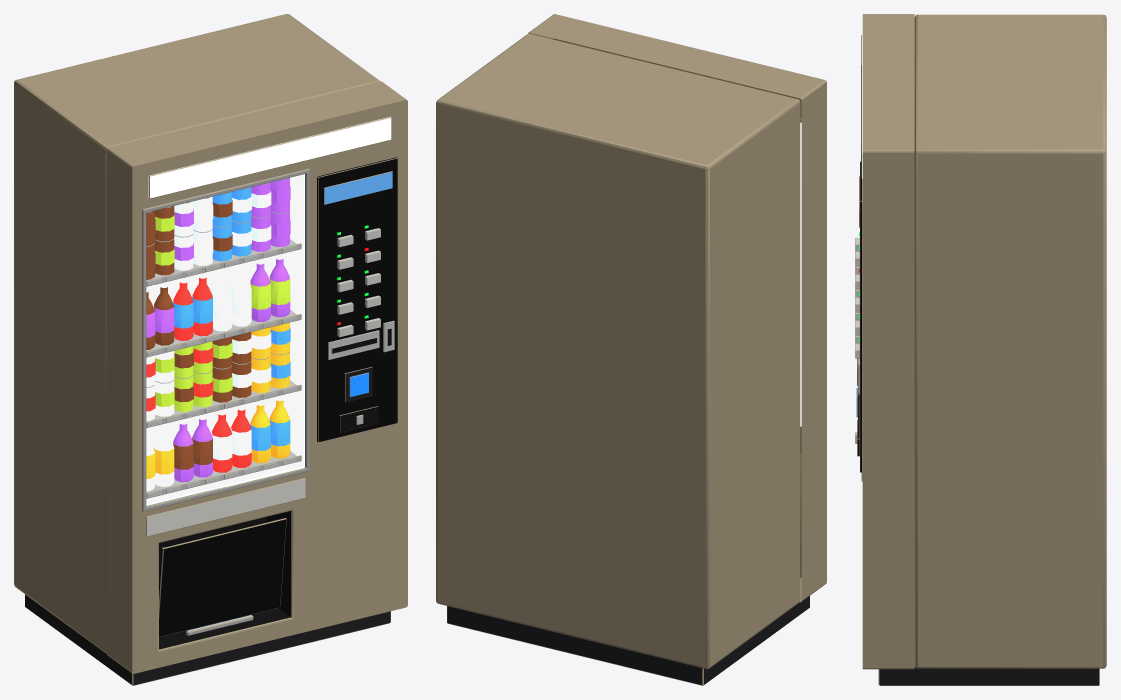
Rendered from gteki_vending_machine_sand.glb.
3 renders of one model, left to right at view 1: azimuth 30°, elevation 25°; view 2: azimuth 150°, elevation 25°; view 3: azimuth 270°, elevation 25°, orthographic. The views are drawn at different scales.
Parts seen in each view (by area): view 1: VIS_body, VIS_fascia, VIS_drinks, VIS_controls, VIS_trim, VIS_pickup, VIS_window; view 2: VIS_body, VIS_fascia; view 3: VIS_body, VIS_fascia, VIS_controls.
Boxes of the visible parts, box(x1,y1,x2,y2) form: VIS_body: box(14, 14, 390, 685); VIS_fascia: box(106, 81, 407, 673); VIS_drinks: box(146, 177, 290, 491); VIS_controls: box(317, 157, 397, 442); VIS_trim: box(142, 116, 391, 536); VIS_pickup: box(159, 516, 286, 636); VIS_window: box(146, 239, 301, 498); VIS_body: box(436, 34, 809, 685); VIS_fascia: box(528, 14, 826, 602); VIS_body: box(878, 14, 1106, 685); VIS_fascia: box(862, 14, 914, 669); VIS_controls: box(855, 161, 862, 472).
Size of what is drawn, in the model's own units: 1 by 1.83 by 0.772.
Materials: 23 (1 with a texture image).
